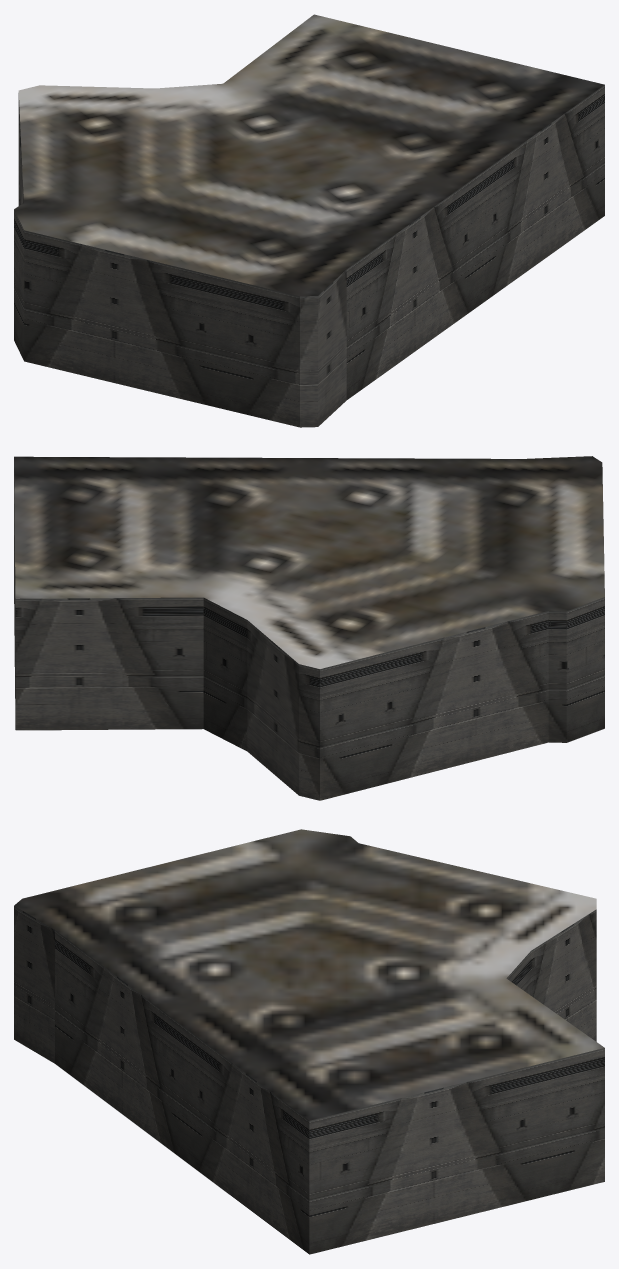
Rendered from fortress_heavy_50.glb.
The picture shows the model from 3 angles, top to bottom: view 1: azimuth 30°, elevation 25°; view 2: azimuth 150°, elevation 25°; view 3: azimuth 270°, elevation 25°; orthographic projection. The views are drawn at different scales.
Visible parts, largest first — view 1: buildings/saxarba/fortress_heavy/fortress_heavy_50; view 2: buildings/saxarba/fortress_heavy/fortress_heavy_50; view 3: buildings/saxarba/fortress_heavy/fortress_heavy_50.
Boxes of the visible parts, x1=… form: buildings/saxarba/fortress_heavy/fortress_heavy_50: x1=14, y1=14, x2=604, y2=427; buildings/saxarba/fortress_heavy/fortress_heavy_50: x1=14, y1=456, x2=604, y2=800; buildings/saxarba/fortress_heavy/fortress_heavy_50: x1=14, y1=829, x2=604, y2=1254.
Size of the model in its own units: 84 by 18 by 72.
